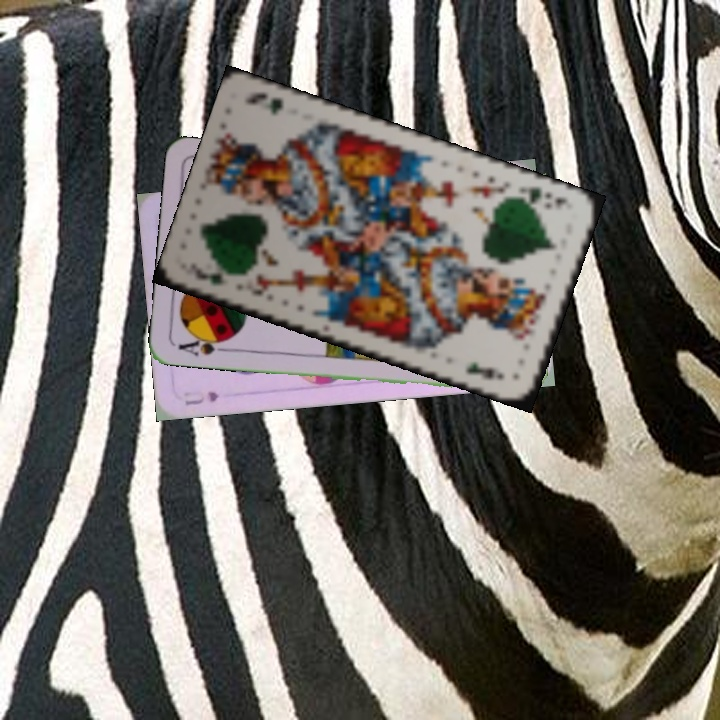GK: (514, 183, 573, 210), (199, 268, 239, 288)
SA: (174, 331, 233, 359)
SU: (181, 387, 222, 408)
